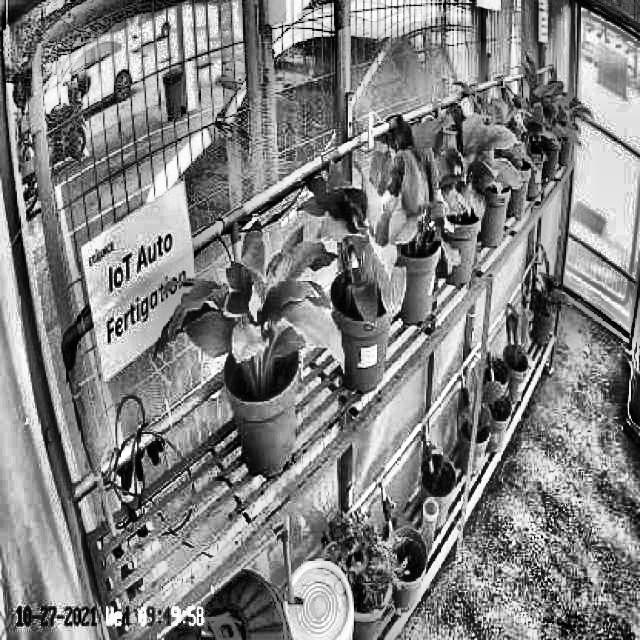plants: (158, 222, 344, 390), (304, 166, 408, 332), (356, 123, 461, 271), (422, 108, 524, 227)
